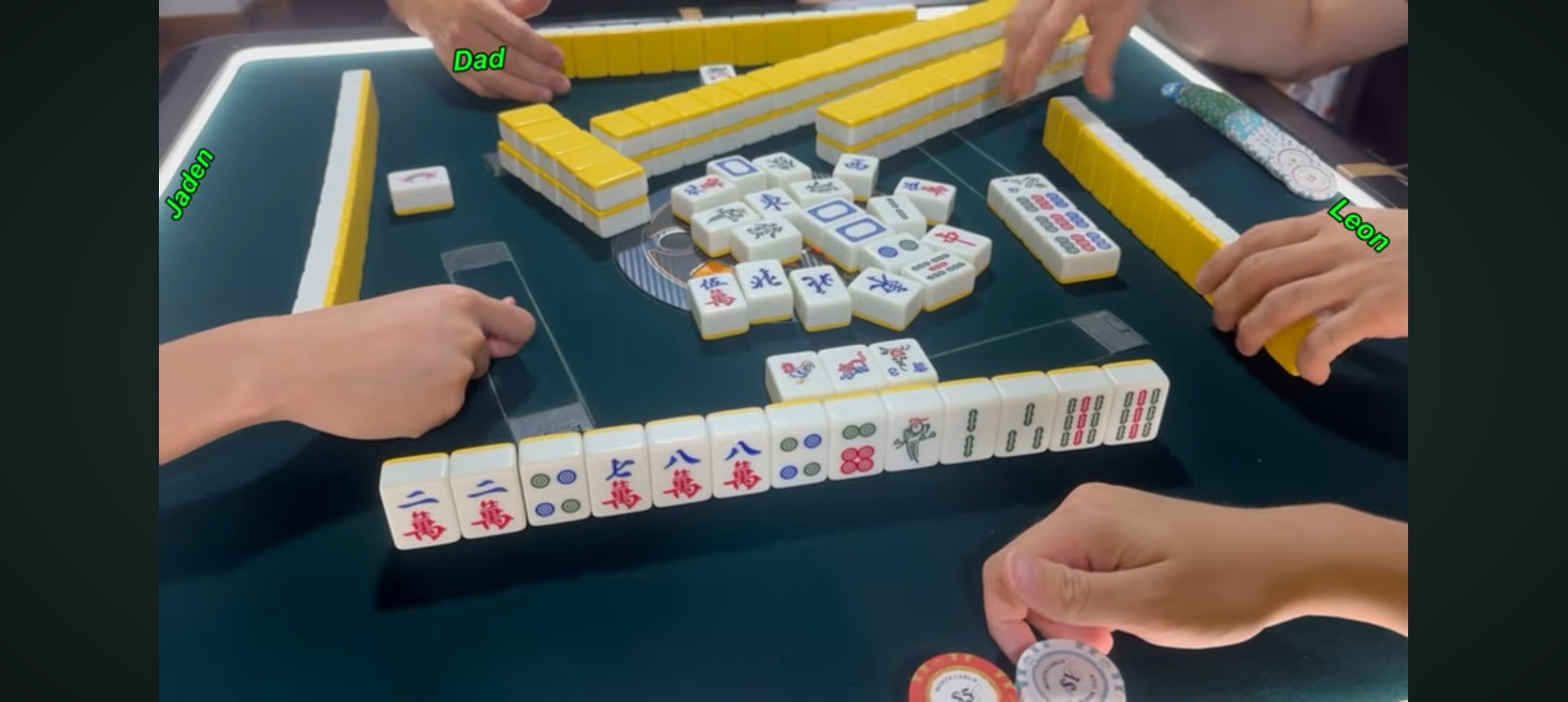TILE: (379, 482, 461, 547), (452, 473, 524, 537), (519, 462, 589, 526), (587, 453, 650, 516), (648, 442, 709, 507), (709, 437, 770, 496), (828, 420, 889, 478), (764, 350, 832, 400), (1112, 388, 1171, 444), (945, 404, 1000, 462), (890, 411, 945, 468), (771, 430, 826, 486), (1057, 394, 1111, 451), (871, 341, 942, 382), (1000, 399, 1054, 451), (820, 344, 879, 391)
